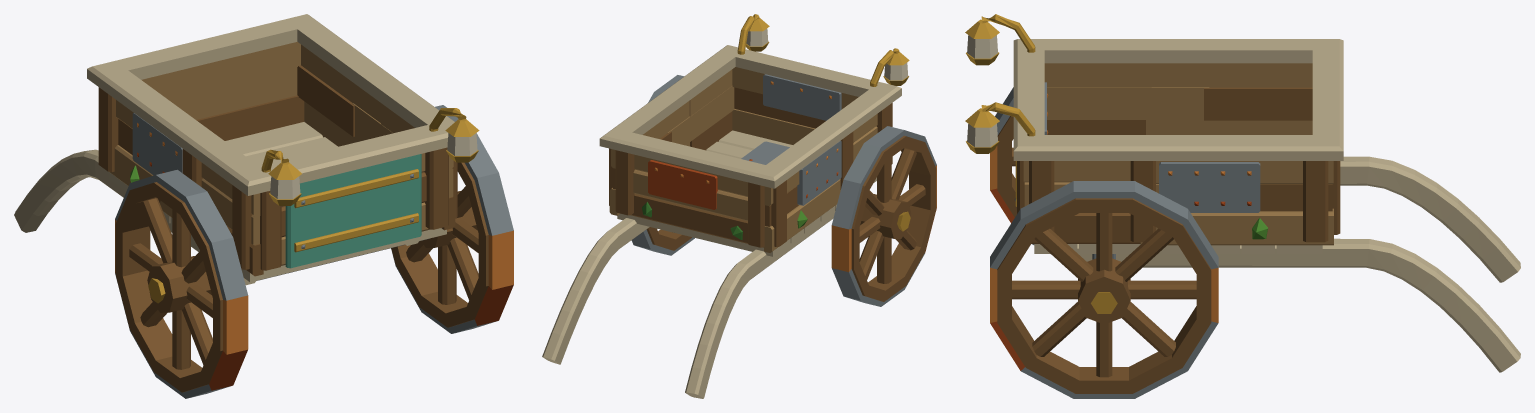
File: salvage-hand-cart-222304.glb
The picture shows the model from 3 angles, left to right: view 1: azimuth 30°, elevation 25°; view 2: azimuth 150°, elevation 25°; view 3: azimuth 270°, elevation 25°; orthographic projection. The views are drawn at different scales.
Visible parts, largest first — view 1: cart-body, wheel-left-mesh, wheel-right-mesh, lanterns; view 2: cart-body, wheel-left-mesh, lanterns, wheel-right-mesh; view 3: cart-body, wheel-right-mesh, lanterns, wheel-left-mesh.
Boxes of the visible parts, box(x1,y1,x2,y2) form: cart-body: box(14, 14, 457, 285); wheel-left-mesh: box(115, 169, 248, 398); wheel-right-mesh: box(391, 105, 513, 333); lanterns: box(261, 108, 479, 205); cart-body: box(542, 45, 901, 398); wheel-left-mesh: box(831, 126, 936, 306); lanterns: box(737, 14, 909, 86); wheel-right-mesh: box(631, 75, 694, 255); cart-body: box(1013, 39, 1520, 372); wheel-right-mesh: box(990, 181, 1218, 398); lanterns: box(965, 14, 1035, 153); wheel-left-mesh: box(990, 87, 1034, 244).
Bounding box in the file's own units: 1.12 × 0.8768 × 1.64.
